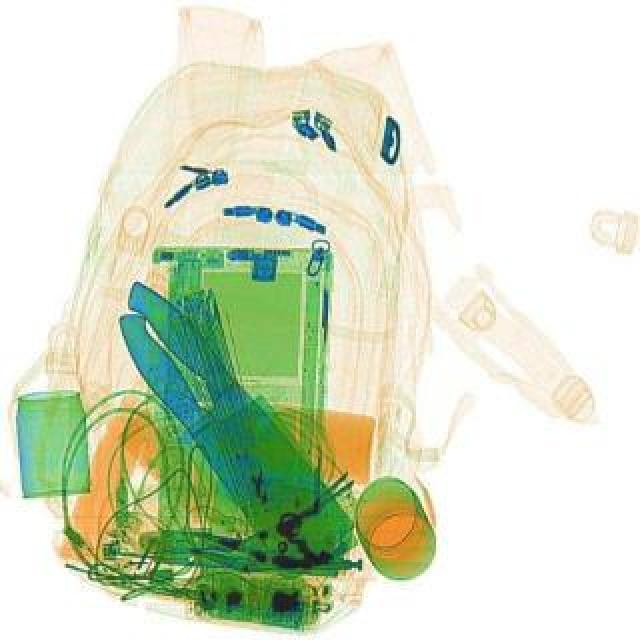knife: (72, 266, 360, 580), (102, 278, 362, 584)
